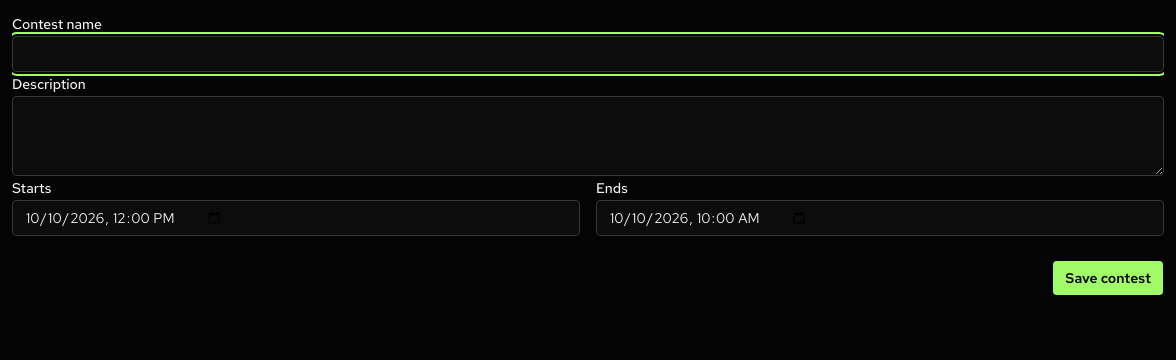
Test: administrative forms › shows contest name and date-order validation errors inline
Click the button "Save contest": [1108, 278] box [1052, 260, 1164, 296]
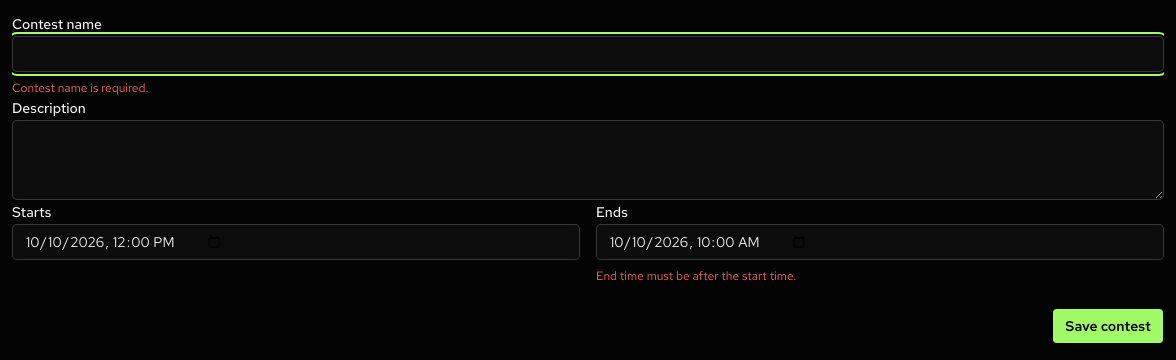
expect the text "Contest name is required." is shown: met, box [12, 80, 148, 96]
expect the text "End time must be after the start time." is shown: met, box [596, 268, 796, 284]
